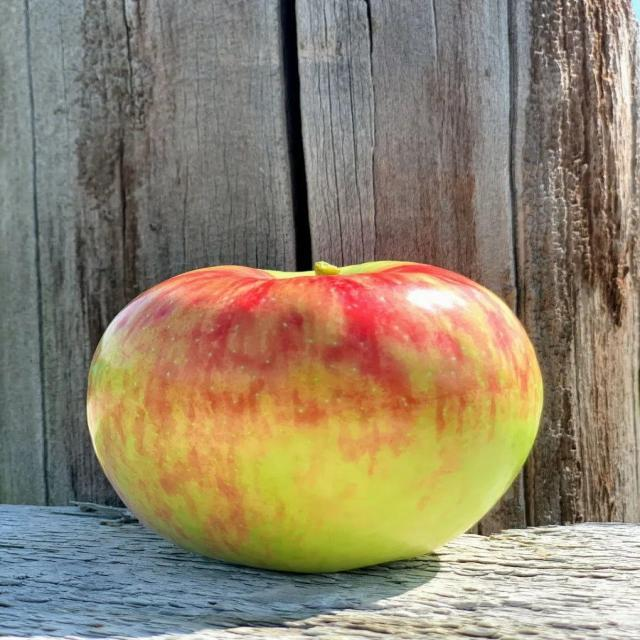Rotten: (92, 260, 550, 583)
